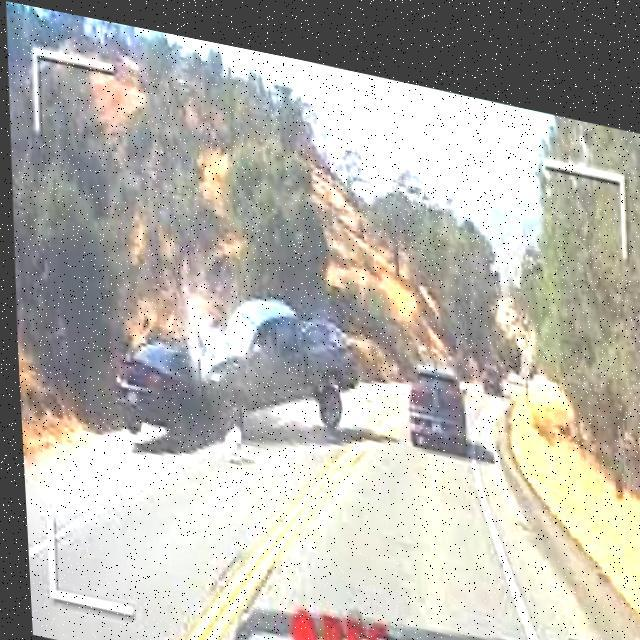Car Accident Detector - v4 Generation1 Exported: (89, 252, 362, 470)
